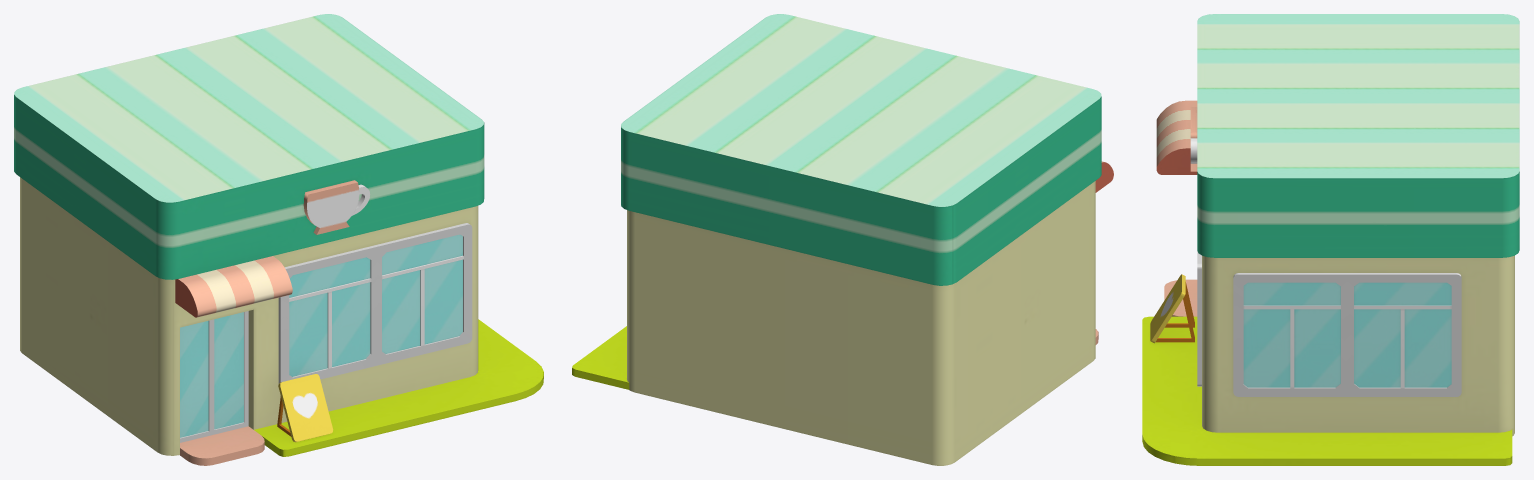
Rendered from structure03.fbx.
3 views of the same model, side by side, from view 1: azimuth 30°, elevation 25°; view 2: azimuth 150°, elevation 25°; view 3: azimuth 270°, elevation 25° (orthographic). The views are drawn at different scales.
Parts seen in each view (by area): view 1: polySurface21; view 2: polySurface21; view 3: polySurface21.
Boxes of the visible parts, left/top/right/bottom form: polySurface21: left=14, top=14, right=543, bottom=465; polySurface21: left=572, top=14, right=1113, bottom=465; polySurface21: left=1142, top=14, right=1519, bottom=465.
Bounding box in the file's own units: 3.5 × 2.29 × 2.97.
1 material, 1 textured.
